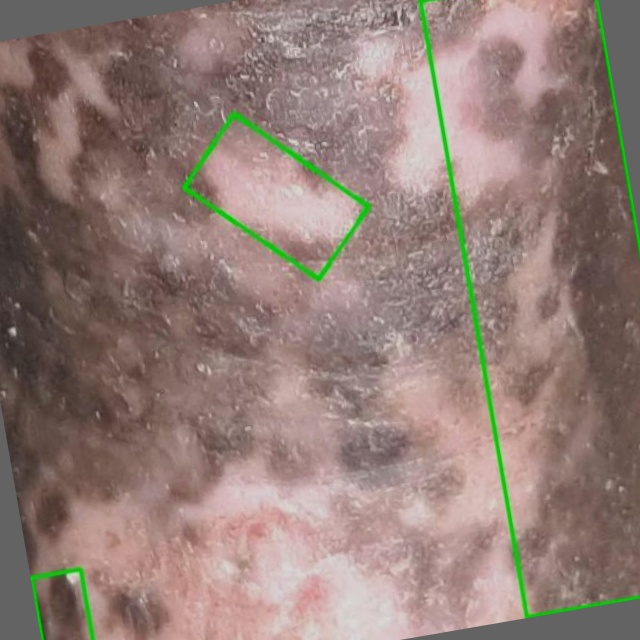Eczema: (420, 0, 639, 617), (184, 114, 369, 279)
